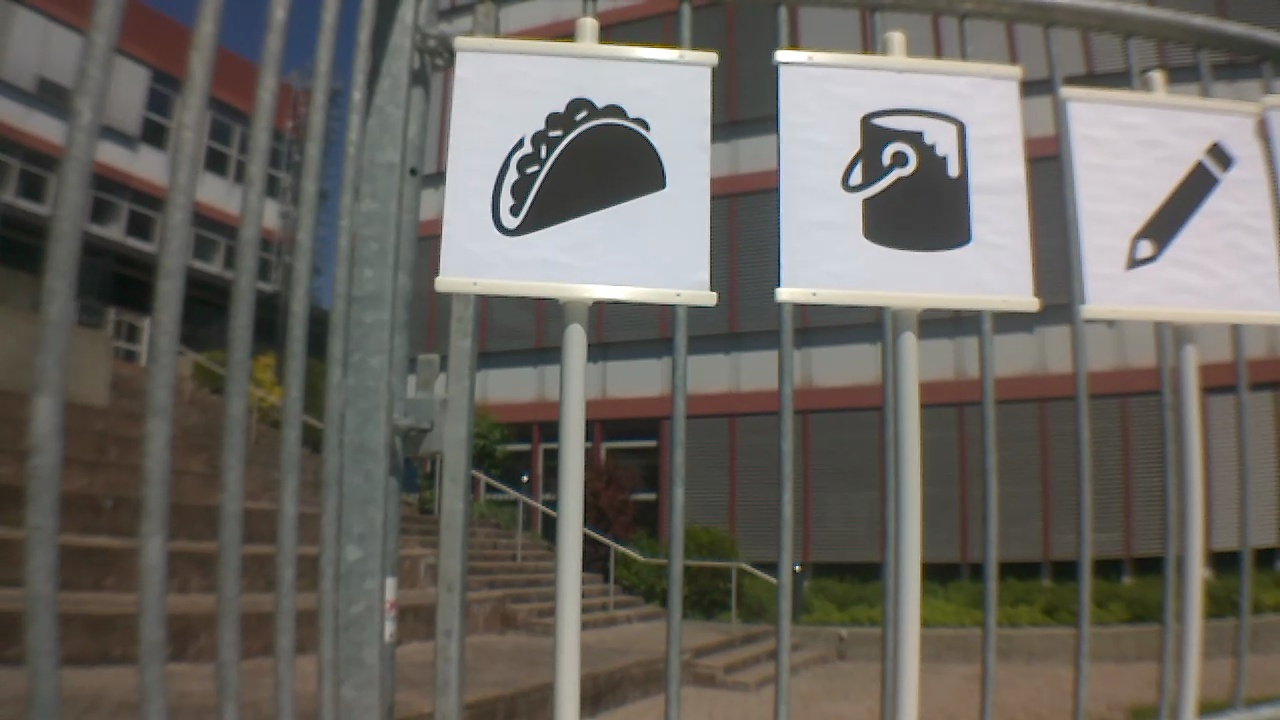bucket: (846, 109, 977, 255)
pencil: (1123, 140, 1242, 274)
taco: (486, 100, 682, 237)
